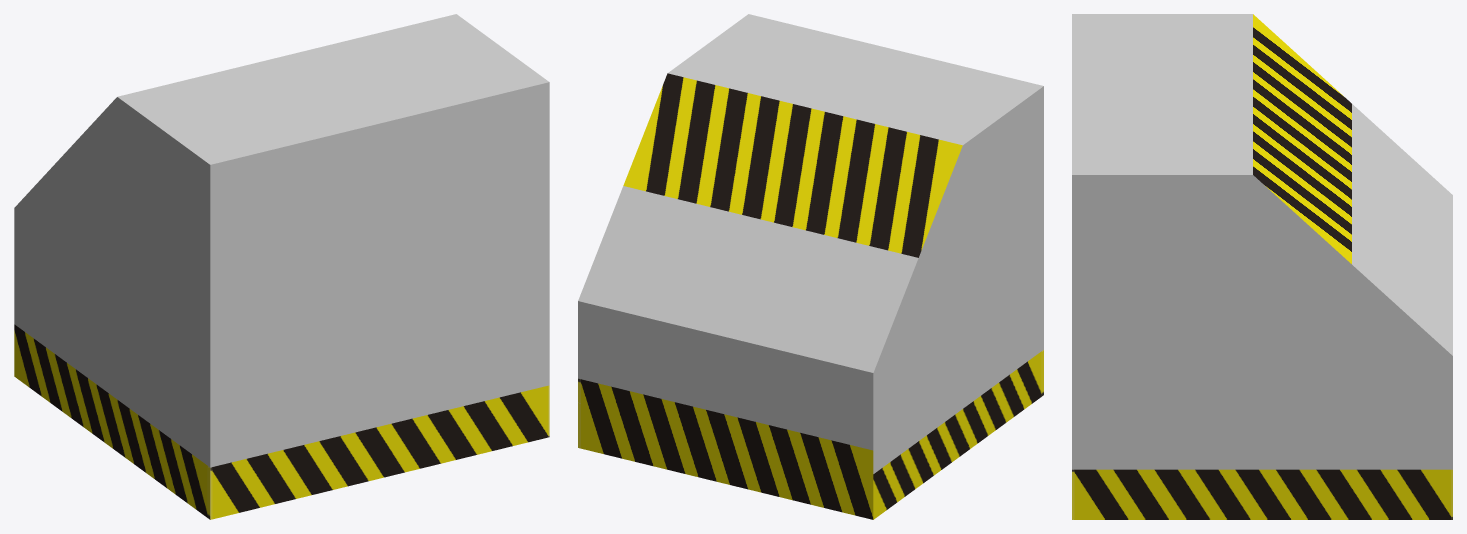
File: Senal_transito_amarillo_negro.glb
3 views of the same model, side by side, from view 1: azimuth 30°, elevation 25°; view 2: azimuth 150°, elevation 25°; view 3: azimuth 270°, elevation 25° (orthographic). The views are drawn at different scales.
Visible parts, largest first — view 1: Cube; view 2: Cube; view 3: Cube.
Part boxes in pixels (<box>): Cube: <box>14,14,549,519</box>; Cube: <box>578,14,1043,519</box>; Cube: <box>1072,14,1452,519</box>.
Size of the model in its own units: 4.56 by 4.56 by 4.56.
2 materials, 1 textured.
